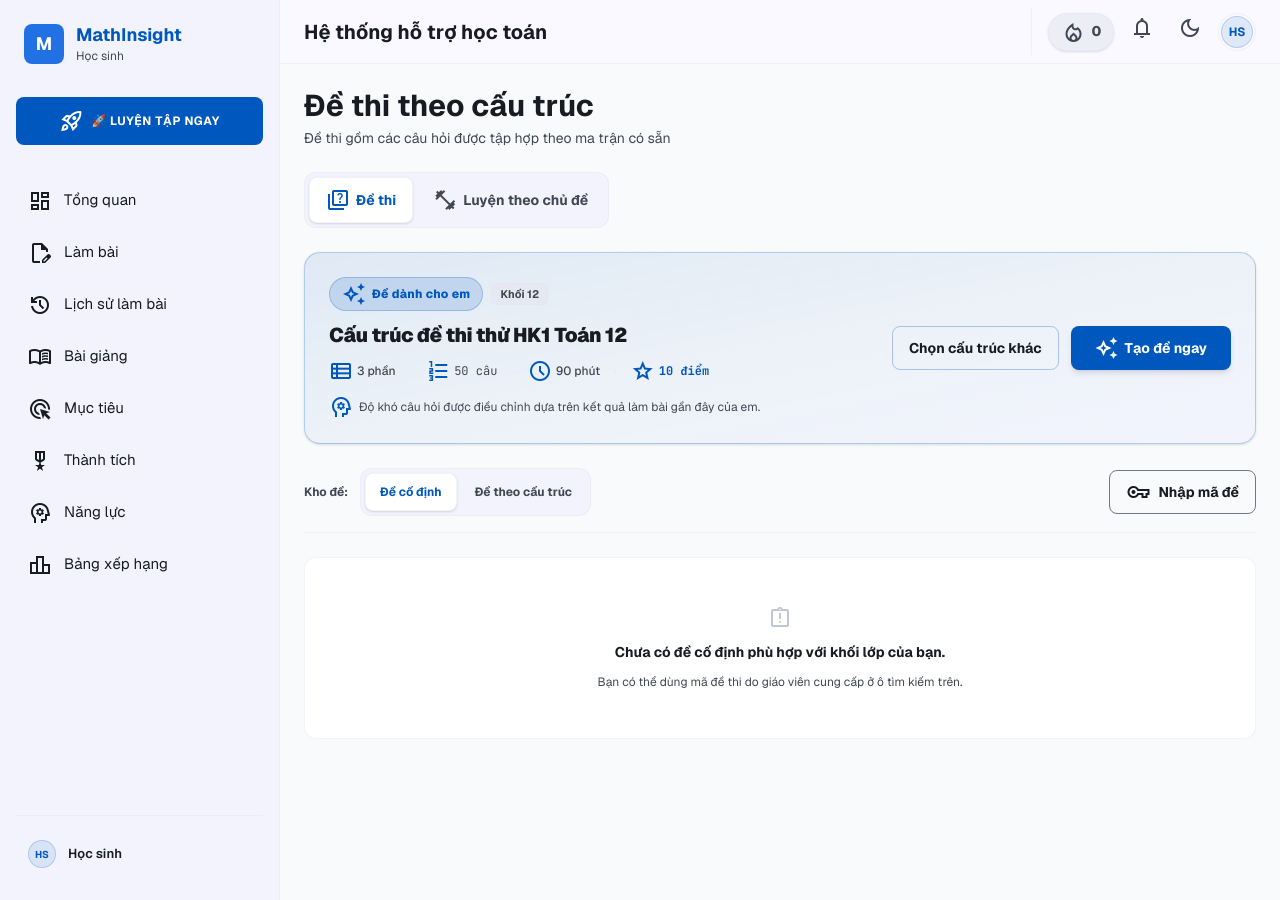
Scenario: SharedBlueprintExamDiscoveryPage - Redesign & Featured Adaptive Panel › displays correct empty state specific to Fixed and Random catalog tabs
Expected: the text "Chưa có đề cố định phù hợp với khối lớp của bạn." is shown, 615,642 -> 945,662
What coordinates should you click on to do the following:
click the tab "Đề theo cấu trúc"
I would click on:
 (523, 492)
Its box is 461,473 -> 586,511.
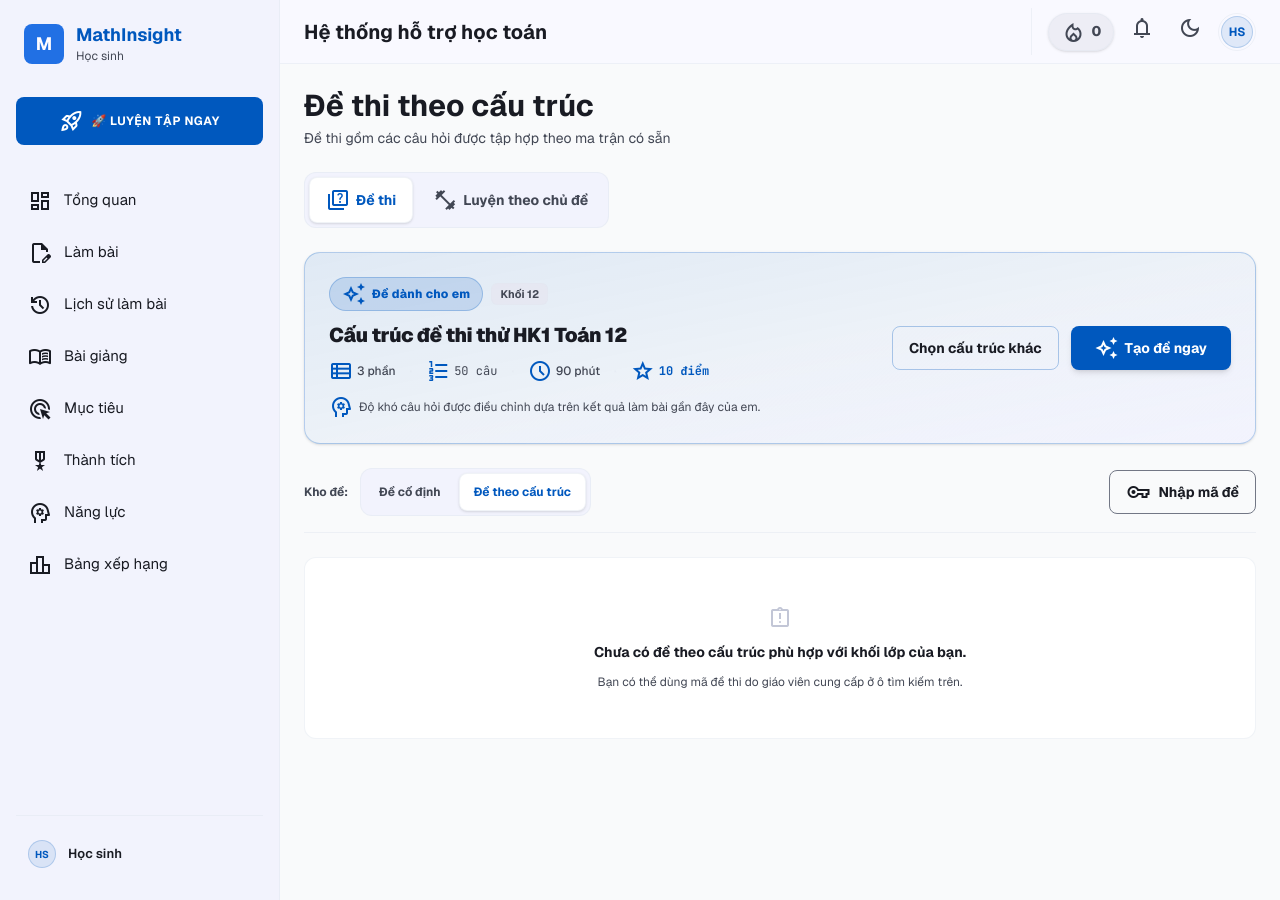
Expected: the text "Chưa có đề theo cấu trúc phù hợp với khối lớp của bạn." is shown, 594,642 -> 966,662
